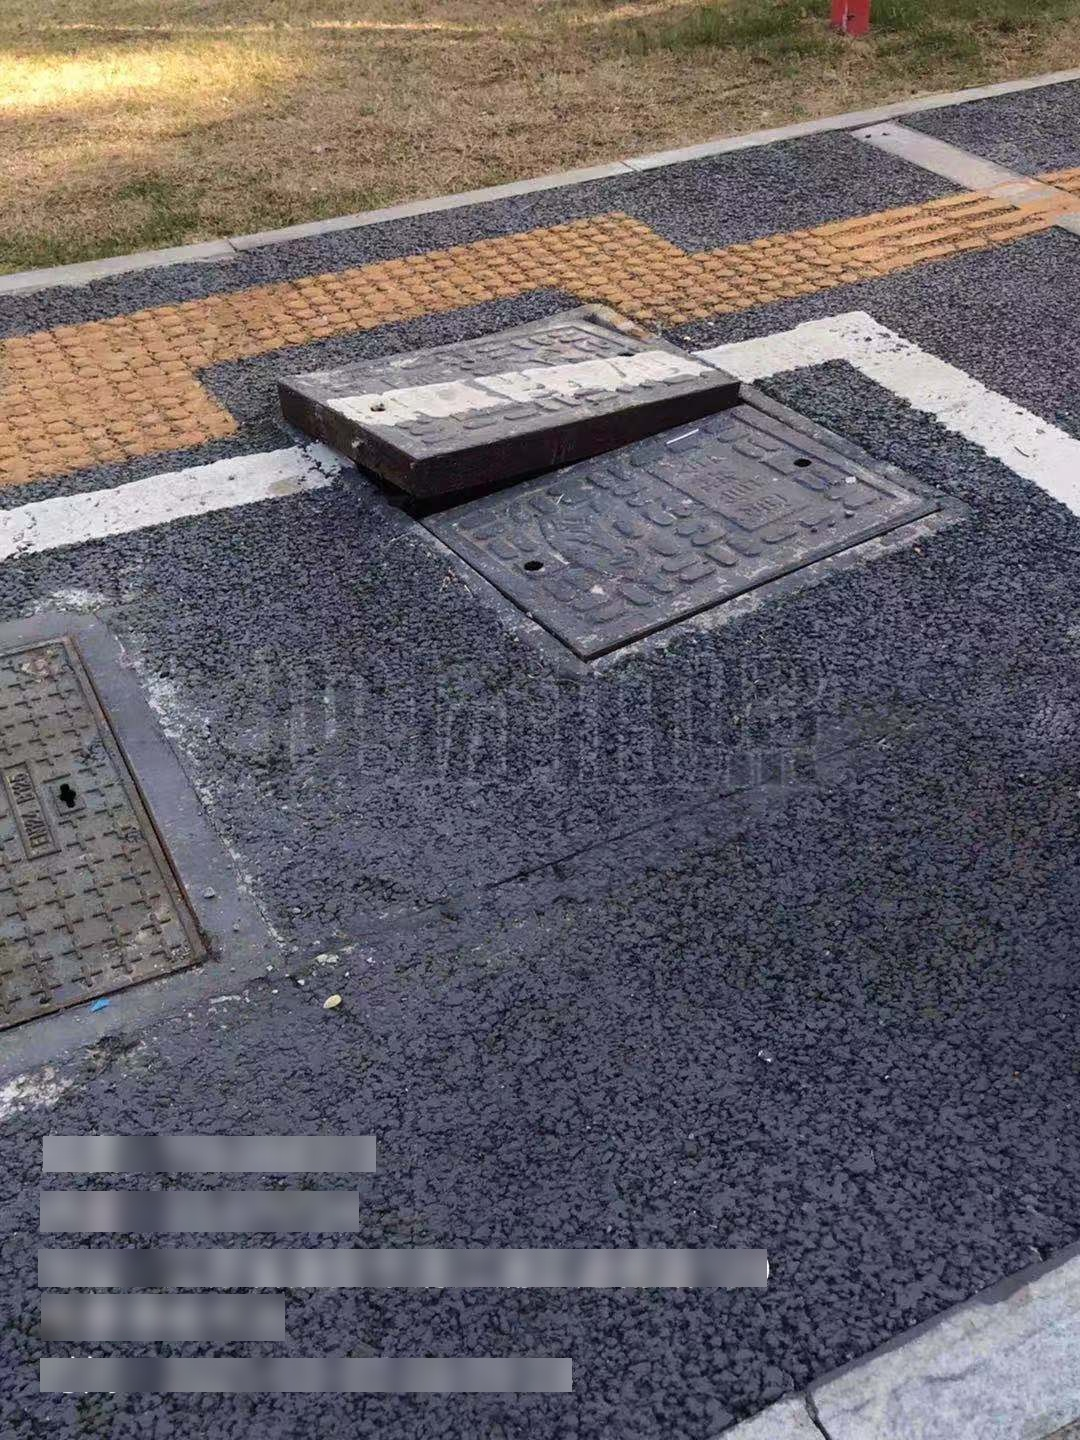uncovered: (264, 306, 969, 674)
